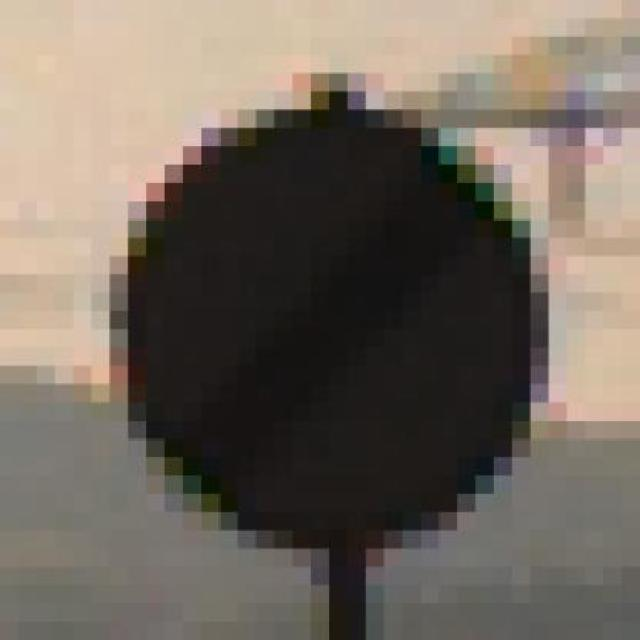End of all speed and passing limits: (86, 74, 580, 568)
